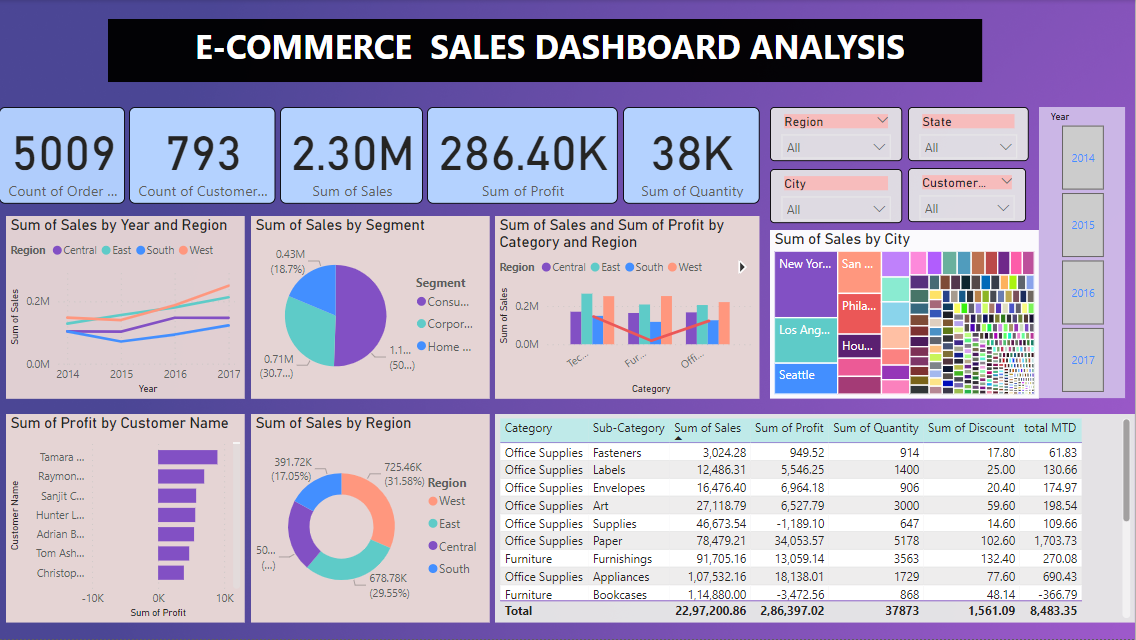

The page's visual inventory and layout, read from the dashboard file:
{"tool":"powerbi","page":{"name":"Page 1","canvas":[1280,720],"ordinal":0},"visuals":[{"type":"card","fields":{"Values":["Sample_Sales.Order ID"]},"box":[0,120.2,142.2,109.2],"z":0},{"type":"card","fields":{"Values":["Sample_Sales.Customer ID"]},"box":[146.8,120.2,165.1,109.2],"z":1},{"type":"card","fields":{"Values":["Sample_Sales.Sales"]},"box":[316.5,120.2,161.5,109.2],"z":2},{"type":"card","fields":{"Values":["Sample_Sales.Profit"]},"box":[482.6,120.2,214.7,109.2],"z":3},{"type":"card","fields":{"Values":["Sample_Sales.Quantity"]},"box":[702.8,120.2,154.1,109.2],"z":4},{"type":"slicer","fields":{"Values":["Sample_Sales.Region"]},"box":[868.8,121.1,148.6,60.6],"z":5},{"type":"slicer","fields":{"Values":["Sample_Sales.State"]},"box":[1024.8,121.1,135.8,61.5],"z":6},{"type":"slicer","fields":{"Values":["Sample_Sales.City"]},"box":[868.8,189.9,148.6,60.6],"z":7},{"type":"slicer","fields":{"Values":["Sample_Sales.Customer Name"]},"box":[1024.8,189,133,60.6],"z":8},{"type":"lineChart","fields":{"Y":["Sample_Sales.Sales"],"Category":["Sample_Sales.Order Date.Variation.Date Hierarchy.Year"],"Series":["Sample_Sales.Region"]},"box":[7.3,243.1,268.8,205.5],"z":9},{"type":"pieChart","fields":{"Y":["Sample_Sales.Sales"],"Category":["Sample_Sales.Segment"]},"box":[283.5,243.1,268.8,205.5],"z":10},{"type":"lineClusteredColumnComboChart","fields":{"Category":["Sample_Sales.Category"],"Y":["Sample_Sales.Sales"],"Series":["Sample_Sales.Region"],"Y2":["Sample_Sales.Profit"]},"box":[558.7,243.1,298.2,205.5],"z":11},{"type":"clusteredBarChart","fields":{"Y":["Sample_Sales.Profit"],"Category":["Sample_Sales.Customer Name"]},"box":[7.3,466.1,268.8,234.9],"z":12},{"type":"donutChart","fields":{"Category":["Sample_Sales.Region"],"Y":["Sample_Sales.Sales"]},"box":[283.5,466.1,268.8,234.9],"z":13},{"type":"tableEx","fields":{"Values":["Sample_Sales.Category","Sample_Sales.Sub-Category","Sample_Sales.Sales","Sample_Sales.Profit","Sample_Sales.Quantity","Sample_Sales.Discount","Sample_Sales.total MTD"]},"box":[559,466,721,235],"z":14},{"type":"treemap","fields":{"Group":["Sample_Sales.City"],"Values":["Sample_Sales.Sales"]},"box":[868.8,258.7,302.8,189.9],"z":15},{"type":"slicer","fields":{"Values":["Sample_Sales.Order Date.Variation.Date Hierarchy.Year"]},"box":[1171.6,121.1,97.2,327.5],"z":16},{"type":"textbox","box":[122.9,21.1,985.3,70.6],"z":17}]}

Visuals, with their boxes in screenshot pixels (x1, y1, x2, y2), scaled from the page's 1280x720 canvas onto the 1136x640 screenshot:
card - Sample_Sales.Order ID: {"x1": 0, "y1": 107, "x2": 126, "y2": 204}
card - Sample_Sales.Customer ID: {"x1": 130, "y1": 107, "x2": 277, "y2": 204}
card - Sample_Sales.Sales: {"x1": 281, "y1": 107, "x2": 424, "y2": 204}
card - Sample_Sales.Profit: {"x1": 428, "y1": 107, "x2": 619, "y2": 204}
card - Sample_Sales.Quantity: {"x1": 624, "y1": 107, "x2": 760, "y2": 204}
slicer - Sample_Sales.Region: {"x1": 771, "y1": 108, "x2": 903, "y2": 162}
slicer - Sample_Sales.State: {"x1": 910, "y1": 108, "x2": 1030, "y2": 162}
slicer - Sample_Sales.City: {"x1": 771, "y1": 169, "x2": 903, "y2": 223}
slicer - Sample_Sales.Customer Name: {"x1": 910, "y1": 168, "x2": 1028, "y2": 222}
lineChart - Sample_Sales.Sales x Sample_Sales.Order Date.Variation.Date Hierarchy.Year: {"x1": 6, "y1": 216, "x2": 245, "y2": 399}
pieChart - Sample_Sales.Sales x Sample_Sales.Segment: {"x1": 252, "y1": 216, "x2": 490, "y2": 399}
lineClusteredColumnComboChart - Sample_Sales.Category x Sample_Sales.Sales: {"x1": 496, "y1": 216, "x2": 760, "y2": 399}
clusteredBarChart - Sample_Sales.Profit x Sample_Sales.Customer Name: {"x1": 6, "y1": 414, "x2": 245, "y2": 623}
donutChart - Sample_Sales.Region x Sample_Sales.Sales: {"x1": 252, "y1": 414, "x2": 490, "y2": 623}
tableEx - Sample_Sales.Category x Sample_Sales.Sub-Category: {"x1": 496, "y1": 414, "x2": 1135, "y2": 623}
treemap - Sample_Sales.City x Sample_Sales.Sales: {"x1": 771, "y1": 230, "x2": 1040, "y2": 399}
slicer - Sample_Sales.Order Date.Variation.Date Hierarchy.Year: {"x1": 1040, "y1": 108, "x2": 1126, "y2": 399}
textbox: {"x1": 109, "y1": 19, "x2": 984, "y2": 82}
